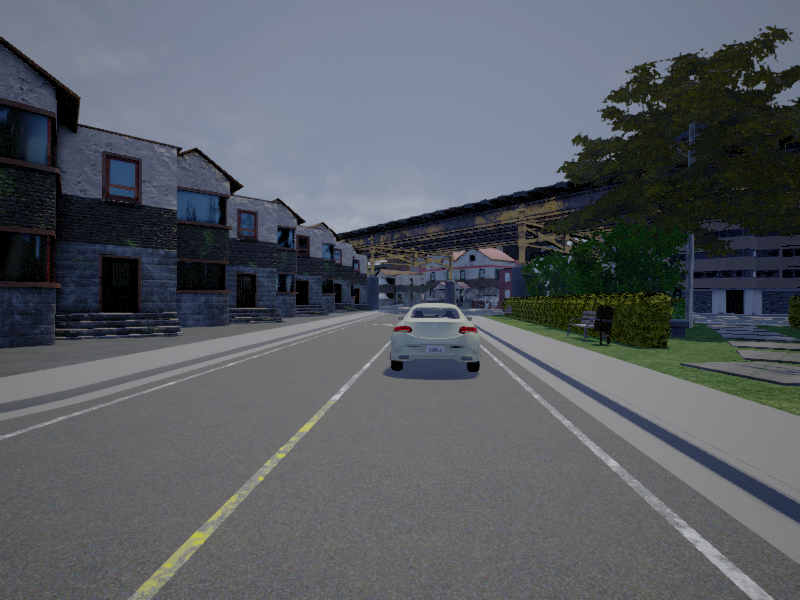Benign: (391, 305, 481, 372)
